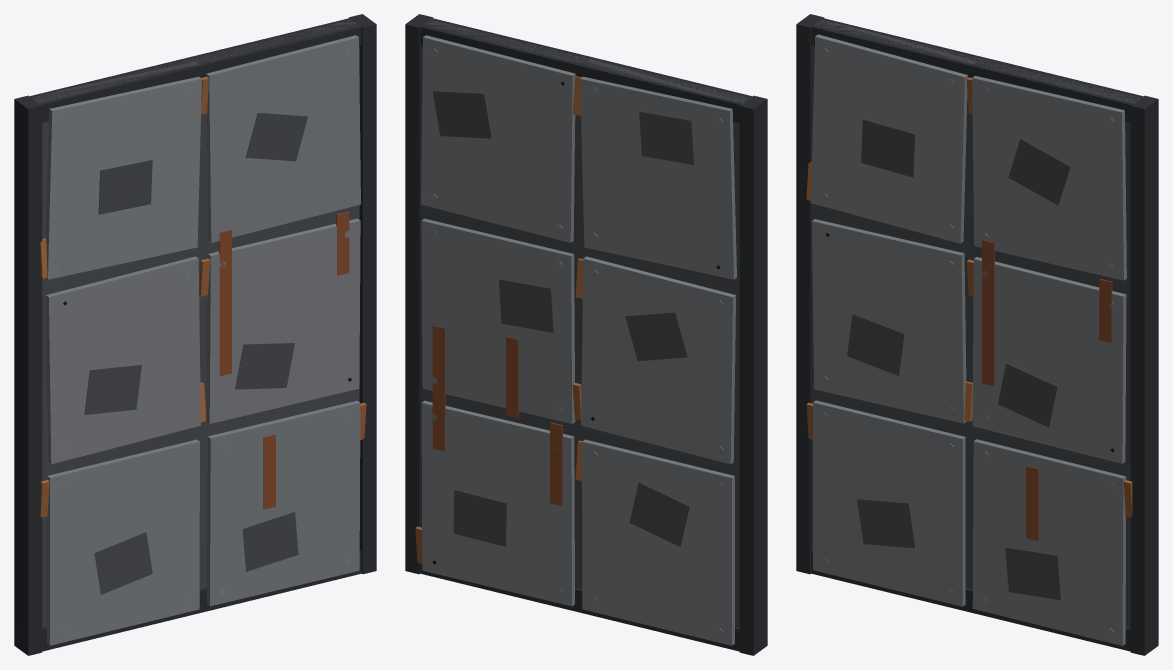
File: piece_wall_reinforced_damaged.fbx
The picture shows the model from 3 angles, left to right: view 1: azimuth 30°, elevation 25°; view 2: azimuth 150°, elevation 25°; view 3: azimuth 330°, elevation 25°; orthographic projection.
Parts seen in each view (by area): view 1: piece_wall_reinforced_damaged; view 2: piece_wall_reinforced_damaged; view 3: piece_wall_reinforced_damaged.
Boxes of the visible parts, box(x1,y1,x2,y2) form: piece_wall_reinforced_damaged: box(14, 14, 376, 655); piece_wall_reinforced_damaged: box(405, 14, 767, 655); piece_wall_reinforced_damaged: box(796, 14, 1158, 655).
Bounding box in the file's own units: 2 × 3 × 0.196.
